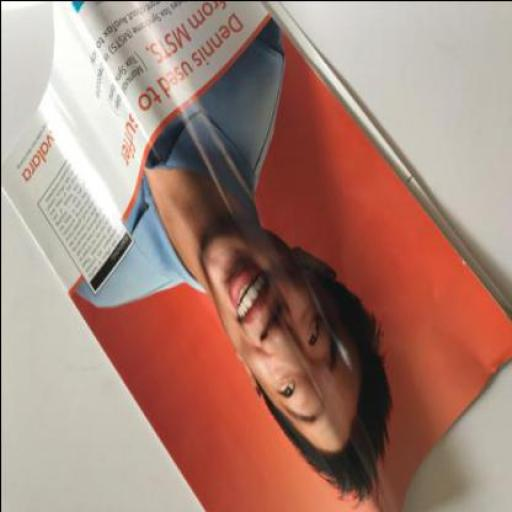paper: (1, 1, 511, 511)
